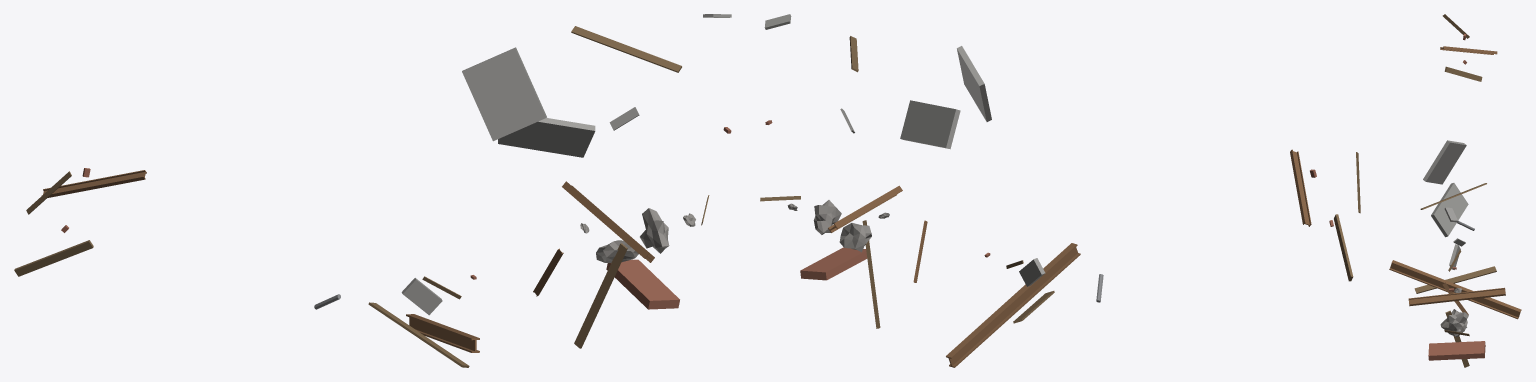
Rendered from batch_RUBBLE_n001_p001.glb.
3 views of the same model, side by side, from view 1: azimuth 30°, elevation 25°; view 2: azimuth 150°, elevation 25°; view 3: azimuth 270°, elevation 25° (orthographic). The views are drawn at different scales.
Visible parts, largest first — view 1: SAR_Building_RUB_001_CollapsedSlab_03.001; view 2: SAR_Building_RUB_001_CollapsedSlab_03.001; view 3: SAR_Building_RUB_001_CollapsedSlab_03.001.
Boxes of the visible parts, left/top/right/bottom form: SAR_Building_RUB_001_CollapsedSlab_03.001: left=14, top=14, right=731, bottom=367; SAR_Building_RUB_001_CollapsedSlab_03.001: left=760, top=14, right=1360, bottom=367; SAR_Building_RUB_001_CollapsedSlab_03.001: left=1389, top=14, right=1521, bottom=367.
Bounding box in the file's own units: 28.82 × 13.14 × 7.75.
